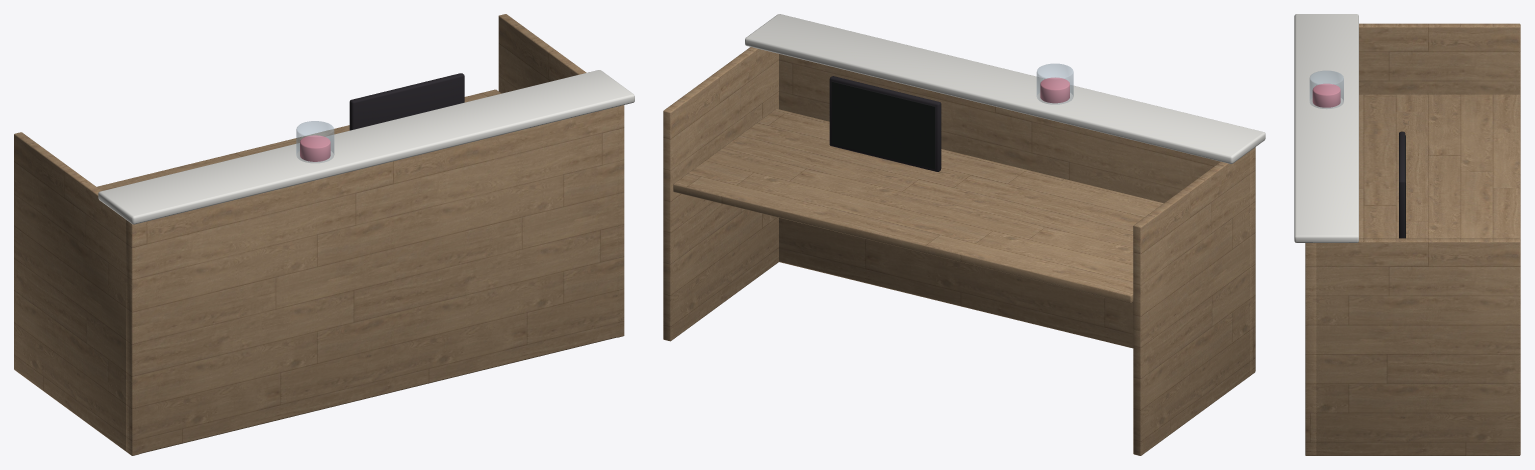
Rendered from reception_desk.glb.
The picture shows the model from 3 angles, left to right: view 1: azimuth 30°, elevation 25°; view 2: azimuth 150°, elevation 25°; view 3: azimuth 270°, elevation 25°; orthographic projection. The views are drawn at different scales.
Visible parts, largest first — view 1: Cube, Cube.001, Cylinder; view 2: Cube, Cube.001, Cylinder; view 3: Cube, Cube.001, Cylinder.
Part boxes in pixels (x1,y1,x2,y2): Cube: [14, 14, 624, 455]; Cube.001: [98, 70, 634, 224]; Cylinder: [296, 121, 334, 162]; Cube: [663, 47, 1255, 455]; Cube.001: [745, 14, 1265, 171]; Cylinder: [1036, 63, 1073, 104]; Cube: [1305, 23, 1520, 455]; Cube.001: [1294, 14, 1405, 242]; Cylinder: [1309, 70, 1343, 108].
Bounding box in the file's own units: 2.45 × 1.27 × 1.05.
3 materials, 3 textured.
